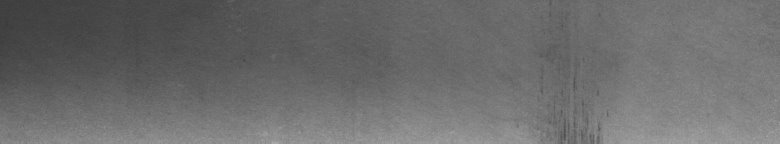ka: (546, 78, 601, 136)
